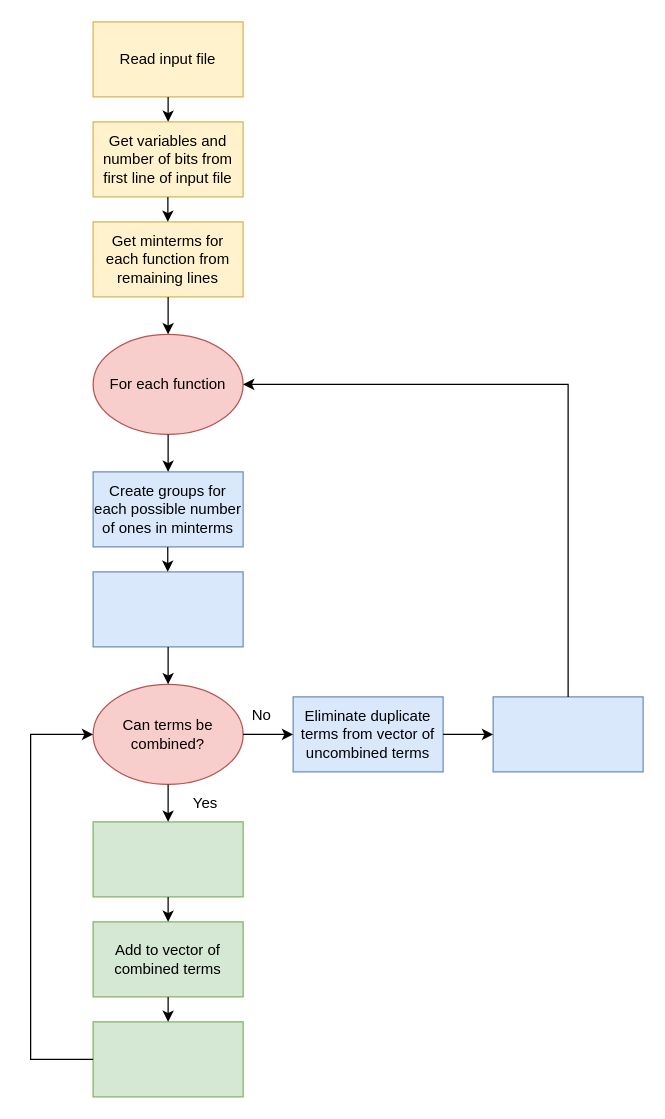
Image size: 665x1119. Some labels were removed from this diagram. Each missing label, with the centre of its shape:
"Add terms that cannot be combined to vector of uncombined terms" goes at (167,1059).
"Combine terms that differ by a single bit" goes at (167,859).
"Sort minterms into groups based on number of bits that are one in each term" goes at (167,609).
"Write resulting vector of uncombined terms to output file" goes at (567,734).
